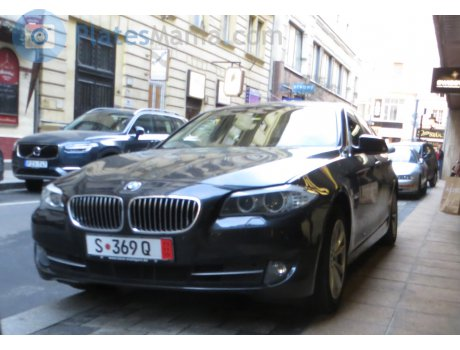License Plates: (89, 232, 162, 264)
